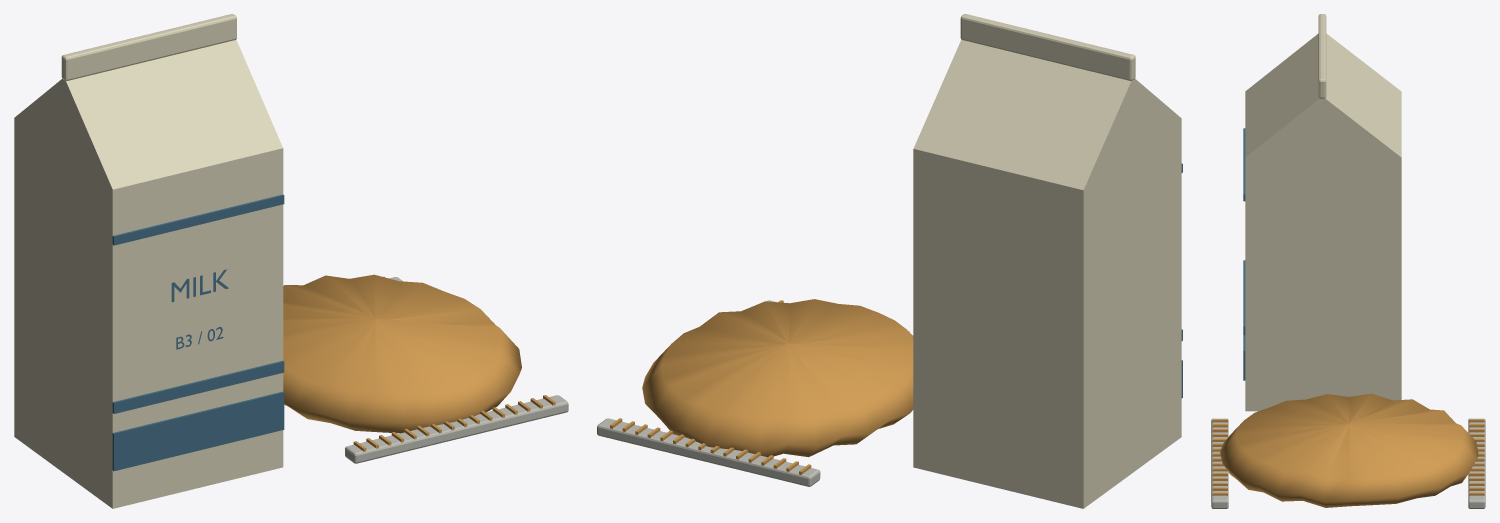
The model's file is WD-03_milk_and_potato_pack.glb.
3 views of the same model, side by side, from view 1: azimuth 30°, elevation 25°; view 2: azimuth 150°, elevation 25°; view 3: azimuth 270°, elevation 25° (orthographic). The views are drawn at different scales.
Visible parts, largest first — view 1: Milk carton folds; view 2: Milk carton folds; view 3: Milk carton folds.
Part boxes in pixels (x1,y1,x2,y2): Milk carton folds: (14,14,568,508); Milk carton folds: (597,14,1182,508); Milk carton folds: (1211,14,1485,508).
Size of the model in its own units: 0.2145 by 0.1895 by 0.142.
